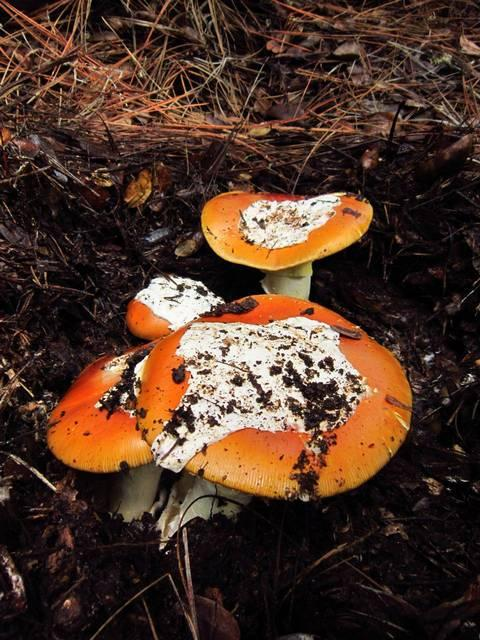Edible Mushroom: (130, 290, 413, 547), (45, 339, 166, 523), (199, 188, 373, 300), (124, 271, 225, 340)
